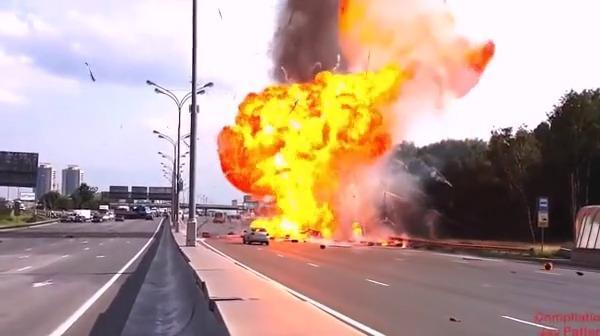fire: (212, 57, 428, 249), (334, 1, 390, 46), (466, 34, 496, 78)
